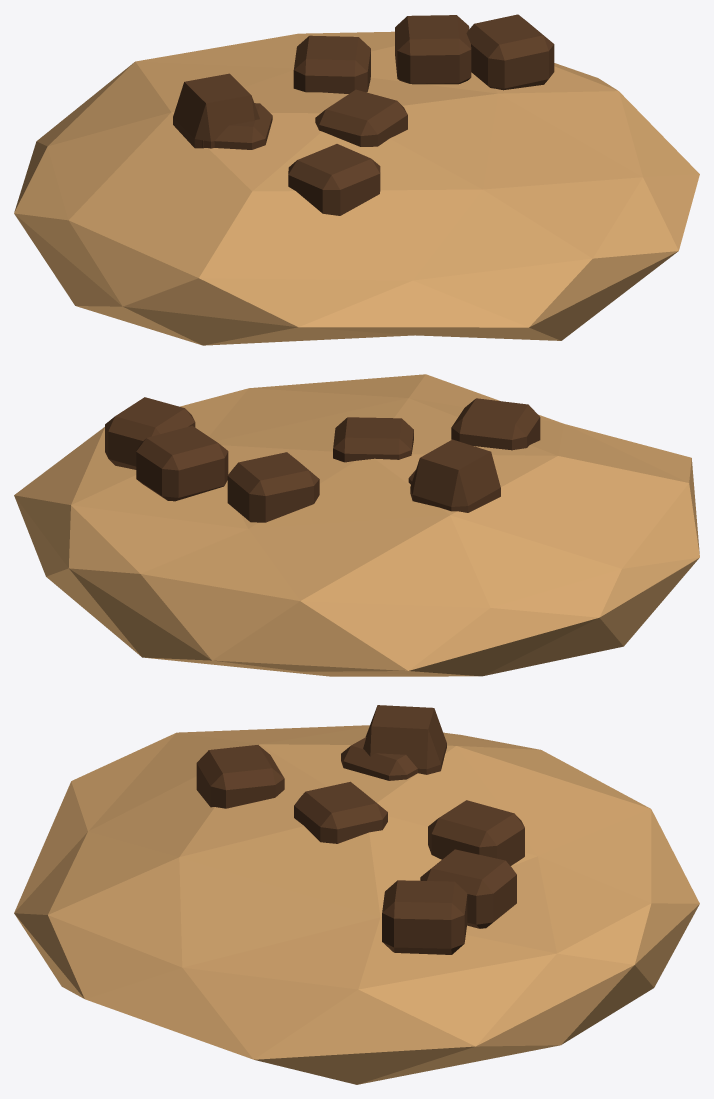
File: cookie.glb
The picture shows the model from 3 angles, top to bottom: view 1: azimuth 30°, elevation 25°; view 2: azimuth 150°, elevation 25°; view 3: azimuth 270°, elevation 25°; orthographic projection. The views are drawn at different scales.
Parts seen in each view (by area): view 1: cookie; view 2: cookie; view 3: cookie.
Boxes of the visible parts, box(x1,y1,x2,y2) form: cookie: box(14, 14, 699, 345); cookie: box(14, 374, 699, 676); cookie: box(14, 705, 699, 1084).
Size of the model in its own units: 0.1106 by 0.0357 by 0.1079.
